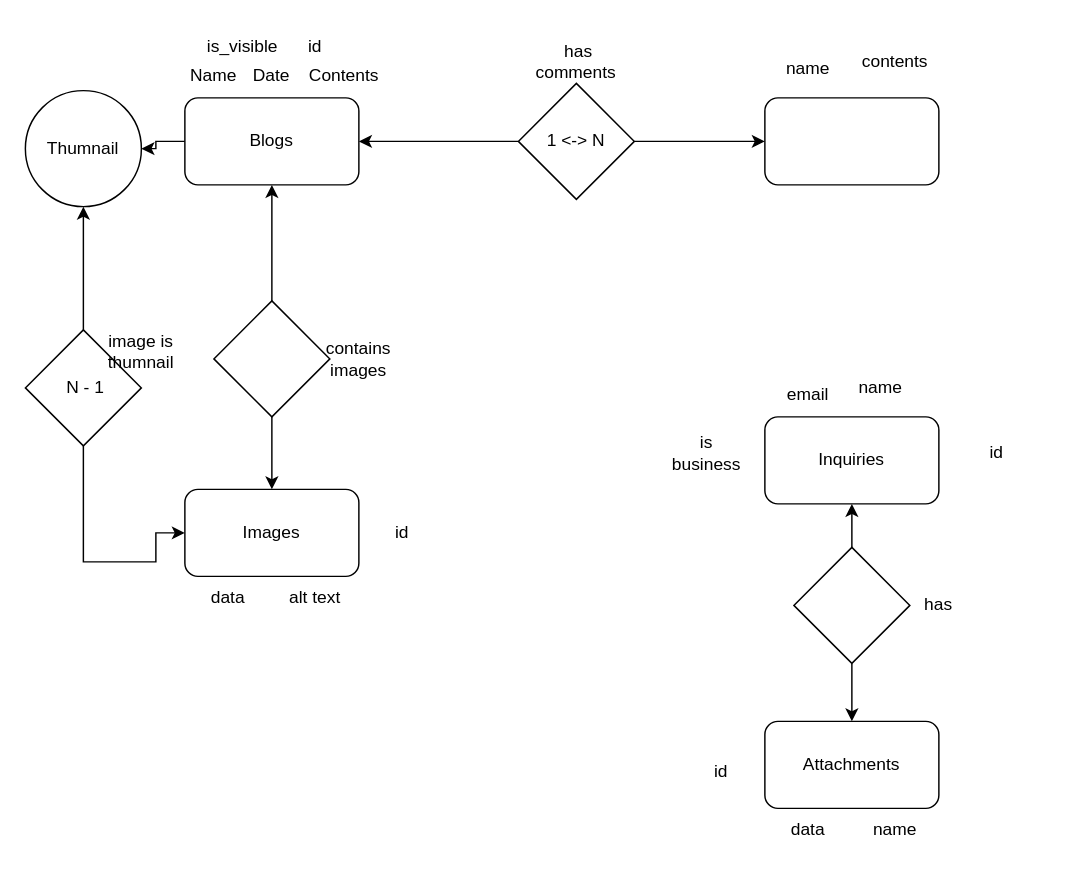
This 1066x876 diagram has some shape labels left out. Here are the shapes that lost their labels. From the top down, the centre of each, then its label:
At pixel 851 140: "Comments".
At pixel 271 358: "N - N".
At pixel 851 604: "1 - N".
